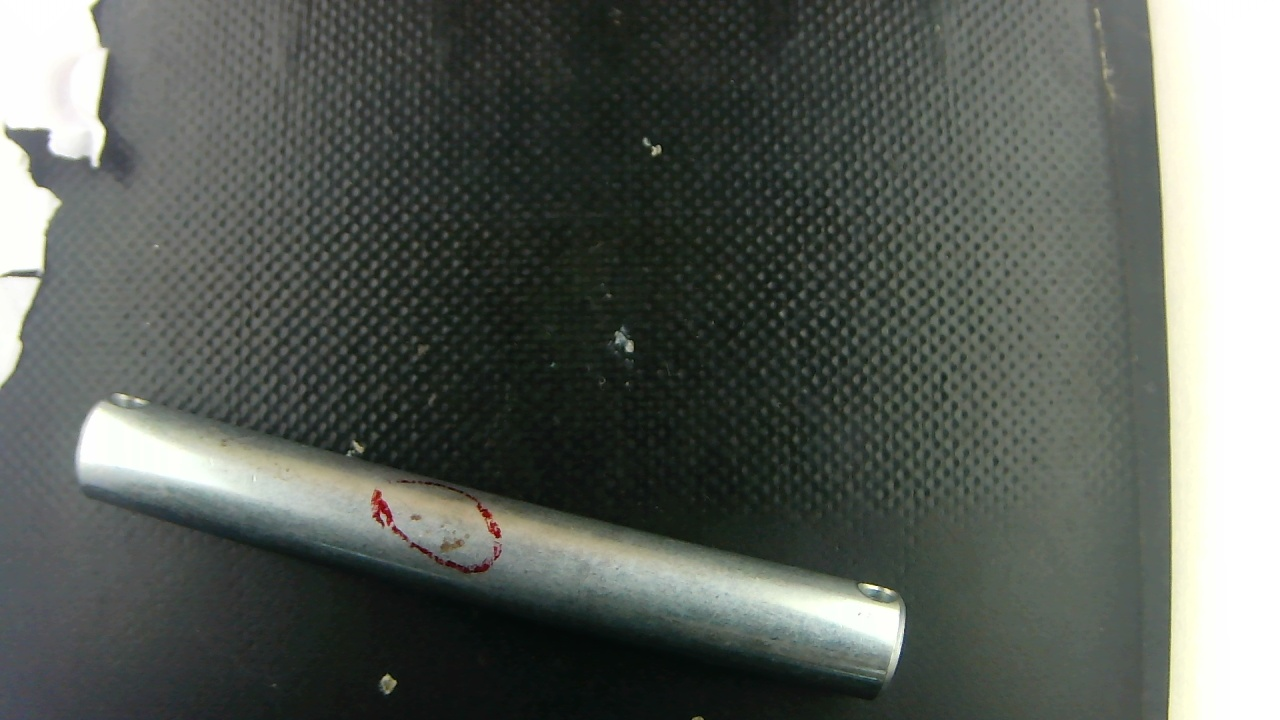rust_pin: (409, 504, 467, 555)
